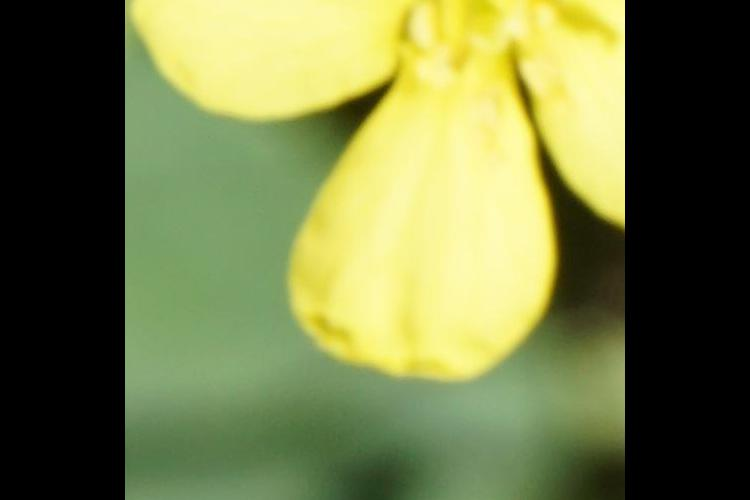yellow: (163, 1, 626, 380)
